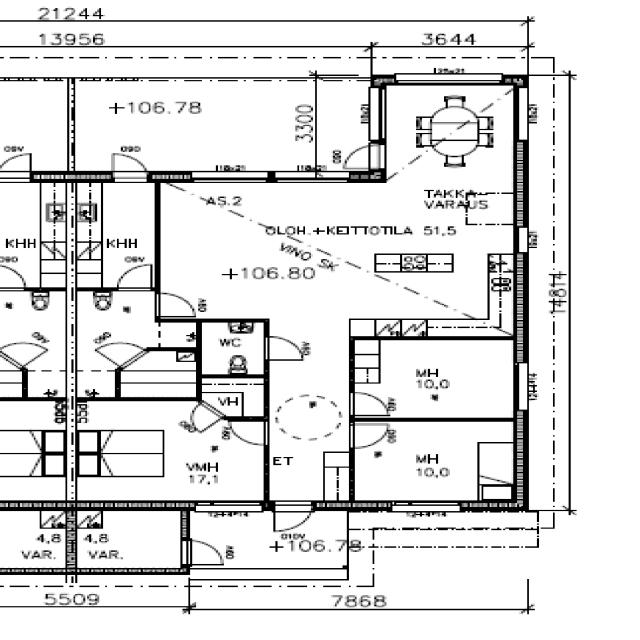door: (271, 502, 315, 534), (108, 150, 151, 182), (261, 334, 309, 362), (155, 292, 199, 320), (349, 421, 392, 449), (184, 538, 227, 566), (4, 343, 48, 370), (98, 341, 142, 367), (114, 263, 156, 290), (227, 419, 269, 446), (349, 390, 390, 417), (341, 144, 382, 170), (0, 152, 35, 176), (0, 264, 27, 290)
window: (189, 172, 270, 185), (371, 87, 389, 142), (511, 361, 529, 415), (390, 500, 462, 512), (197, 500, 262, 513)
zone: (160, 176, 516, 331), (68, 79, 321, 174), (73, 398, 264, 502), (0, 182, 153, 285), (351, 420, 519, 503), (350, 338, 518, 420), (81, 180, 158, 288), (74, 509, 187, 573), (76, 289, 157, 368), (0, 80, 71, 168), (0, 397, 65, 487), (316, 78, 376, 175), (0, 288, 68, 370), (268, 449, 352, 502), (0, 509, 71, 571), (200, 320, 266, 376), (118, 349, 200, 394), (198, 376, 268, 418), (25, 370, 69, 399), (156, 321, 200, 350), (77, 369, 118, 399)
